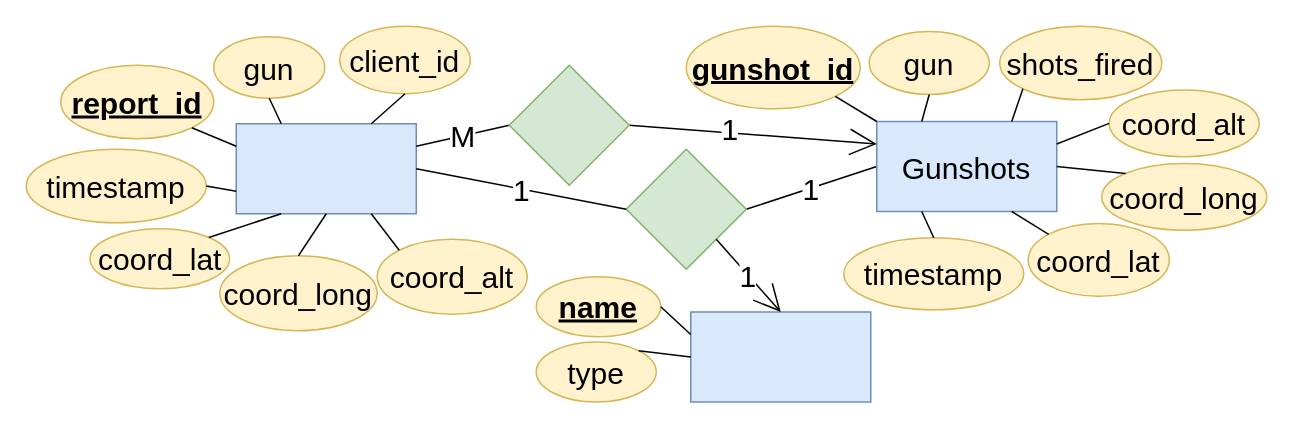
The diagram is 1293 pixels wide and 429 high, and some of its shapes have lost their labels. The shapes that lost their labels are listed below. From the top down, each one's centre as x and y in pixels, then its label:
[568,124]: creates
[325,168]: Reports
[685,208]: has
[780,356]: Guns
